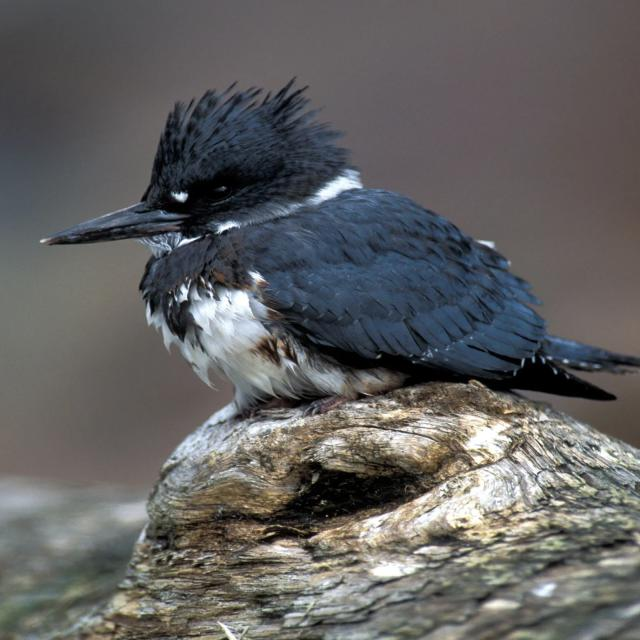kingfisher: (27, 73, 640, 439)
